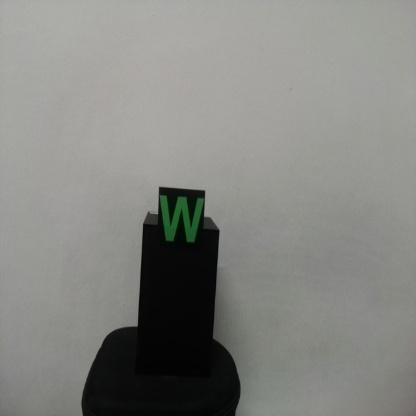id_12: (159, 188, 206, 251)
